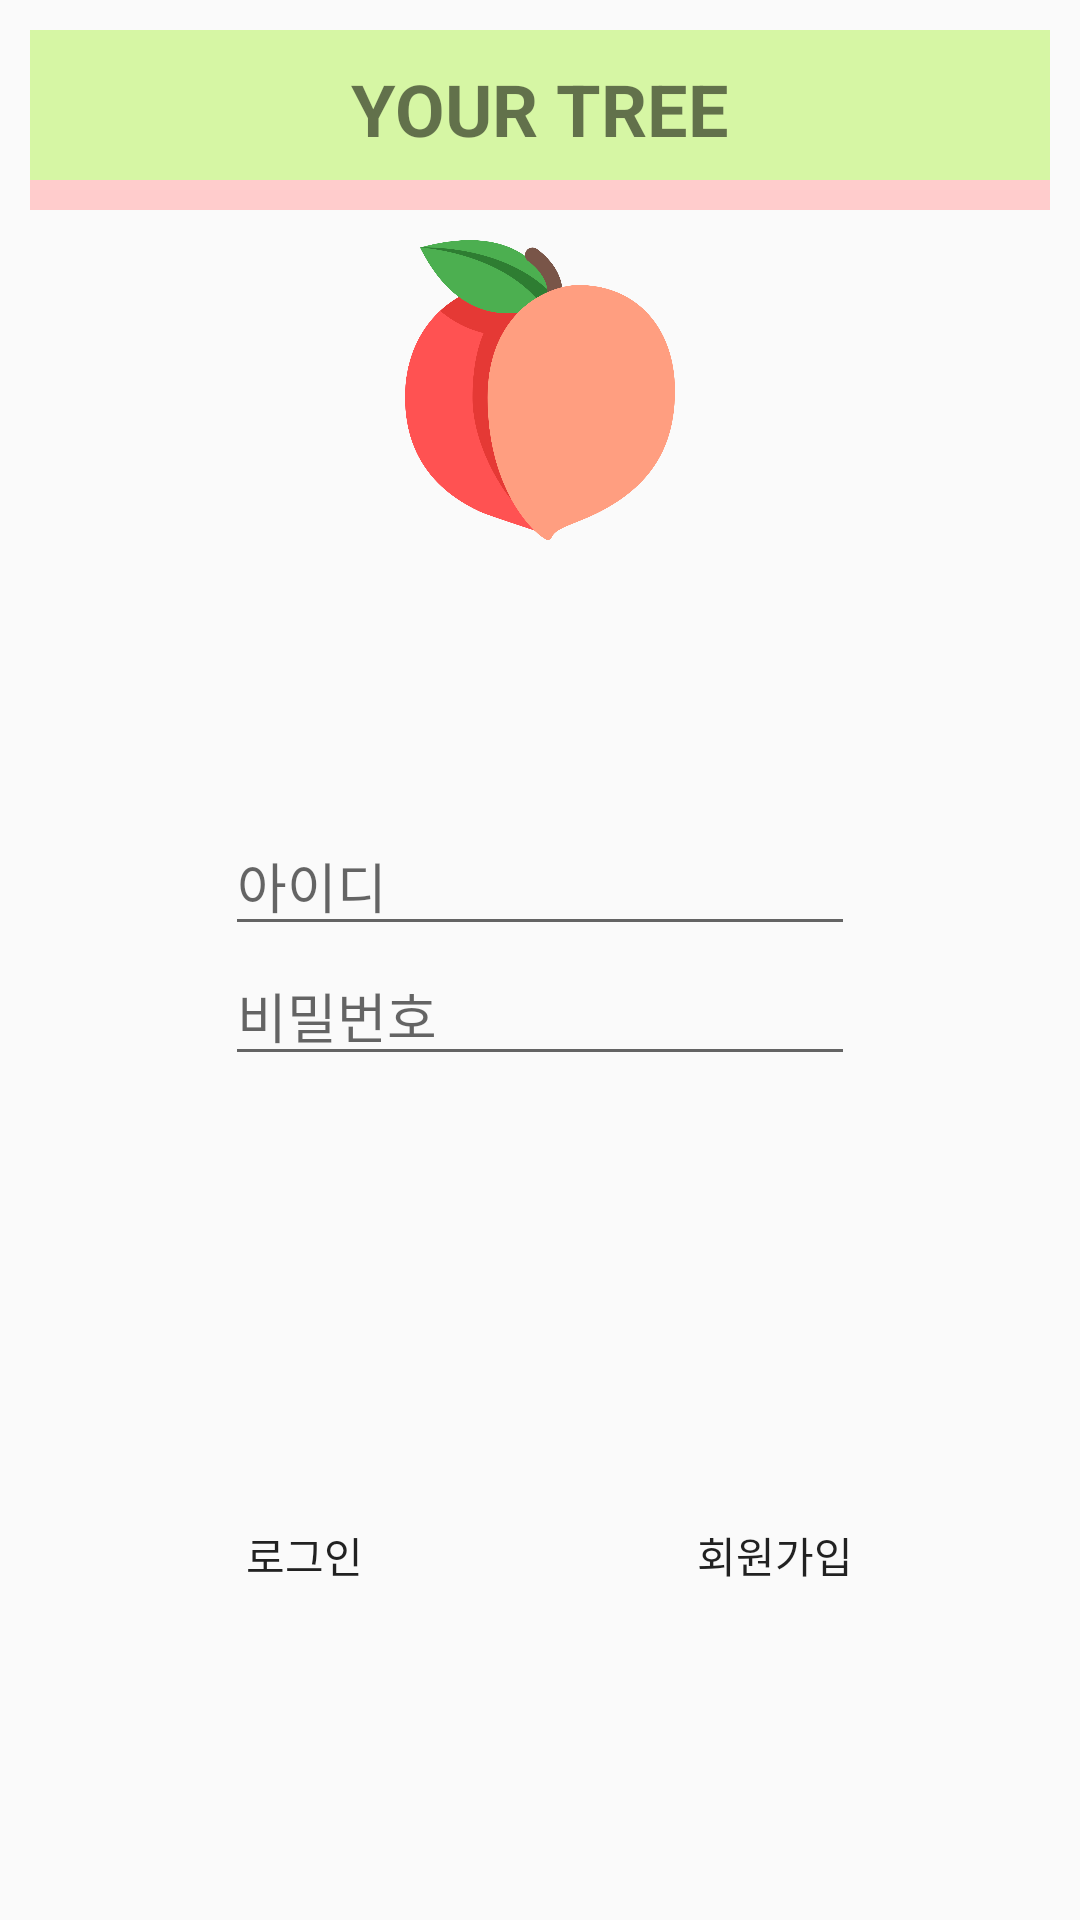

Named icons in this screenshot (1080px x 1920px) and their centers, [x,y]:
peach: [540,390]
